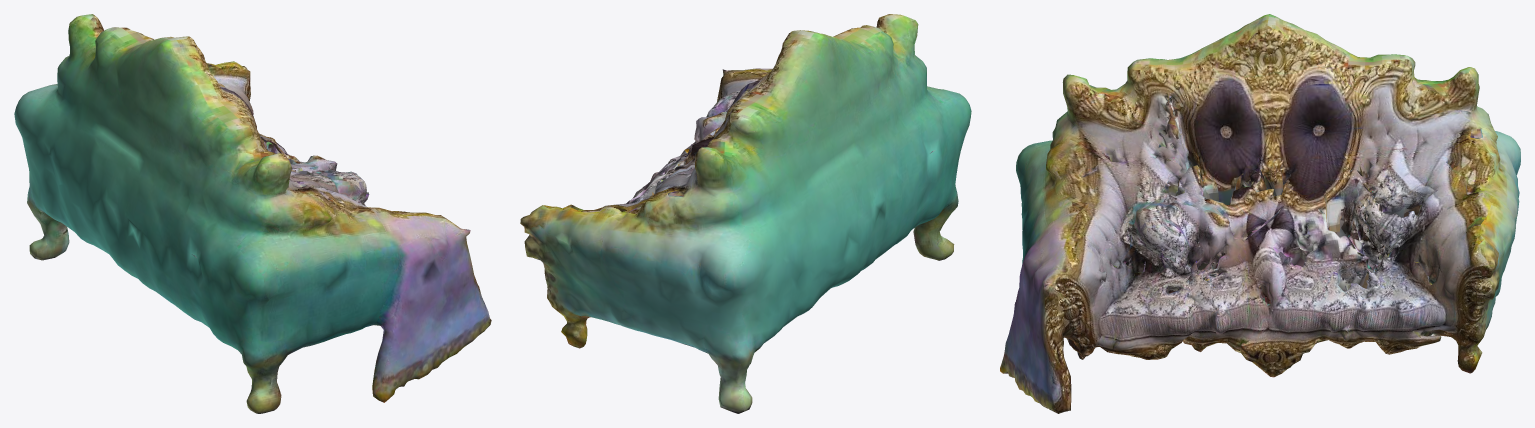
3 views of the same model, side by side, from view 1: azimuth 30°, elevation 25°; view 2: azimuth 150°, elevation 25°; view 3: azimuth 270°, elevation 25° (orthographic). The views are drawn at different scales.
Visible parts, largest first — view 1: Mesh1; view 2: Mesh1; view 3: Mesh1.
Part boxes in pixels (<box>): Mesh1: <box>14,14,491,413</box>; Mesh1: <box>520,14,971,413</box>; Mesh1: <box>1000,14,1520,413</box>.
Size of the model in its own units: 0.7821 by 0.7914 by 1.2.
1 material, 1 textured.
